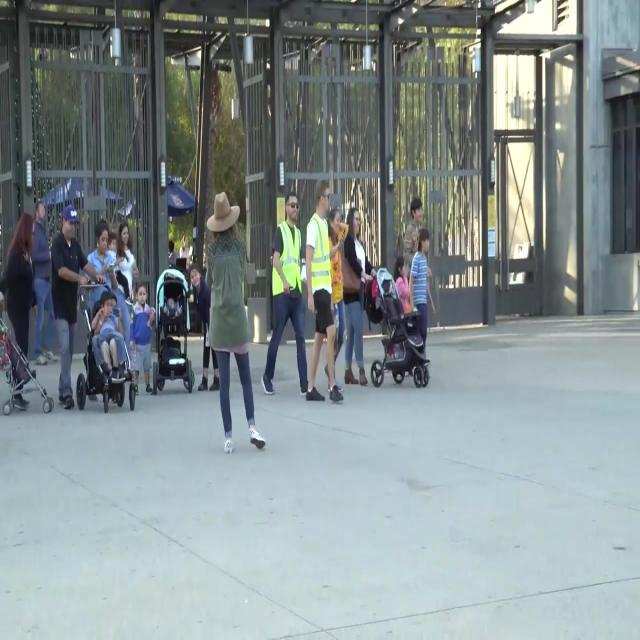Reflective-Jacket: (305, 211, 343, 302), (270, 218, 306, 300)
